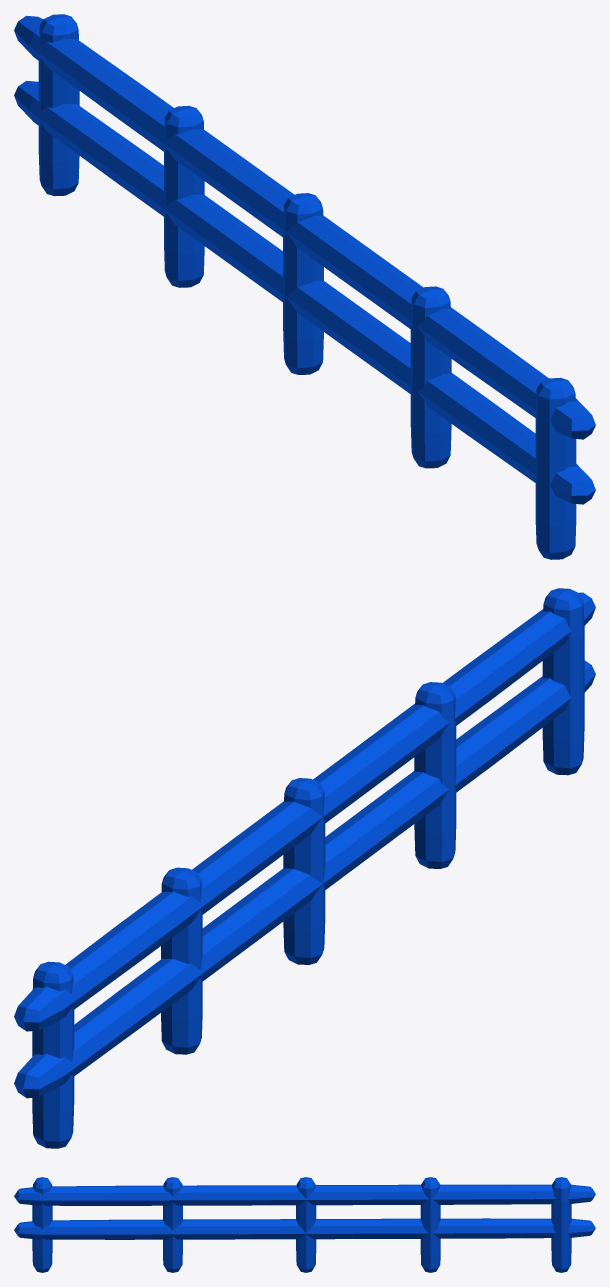
Rendered from Fence_Long.fbx.
3 renders of one model, top to bottom at view 1: azimuth 30°, elevation 25°; view 2: azimuth 150°, elevation 25°; view 3: azimuth 270°, elevation 25°, orthographic. The views are drawn at different scales.
Parts seen in each view (by area): view 1: Cube.005, Cube.006, Cube.004, Cube.003, Cube, Cube.001, Cube.002; view 2: Cube.005, Cube.006, Cube.004, Cube.003, Cube, Cube.002, Cube.001; view 3: Cube.005, Cube.006, Cube.002, Cube.001, Cube, Cube.004, Cube.003.
Part boxes in pixels (x1,y1,x2,y2): Cube.005: (14,15,595,439); Cube.006: (14,80,595,504); Cube.004: (535,377,576,559); Cube.003: (410,286,451,468); Cube: (283,193,323,374); Cube.001: (164,105,204,287); Cube.002: (38,14,79,196); Cube.005: (14,592,595,1031); Cube.006: (14,660,595,1098); Cube.004: (542,588,584,775); Cube.003: (414,682,456,868); Cube: (283,778,325,964); Cube.002: (32,961,74,1148); Cube.001: (161,867,202,1054); Cube.005: (14,1184,595,1205); Cube.006: (14,1218,595,1239); Cube.002: (551,1177,571,1272); Cube.001: (420,1177,440,1272); Cube: (296,1177,316,1272); Cube.004: (32,1177,52,1272); Cube.003: (163,1177,182,1272).
Bounding box in the file's own units: 0.9829 × 3.91 × 22.41.
